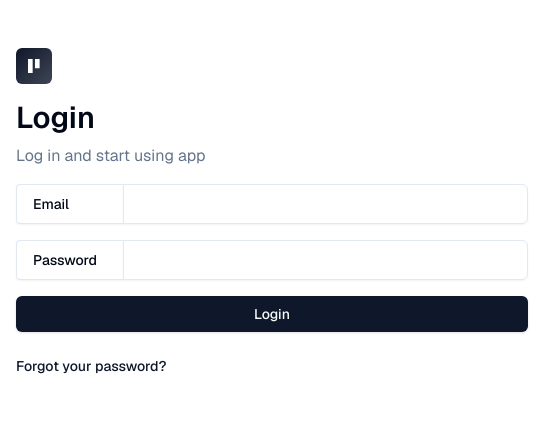
Test: Form validation › Password must be 6 characters at minimum
Type "example@example.com" into the field labelled "Email" at (326, 204), box 123,184 -> 528,224
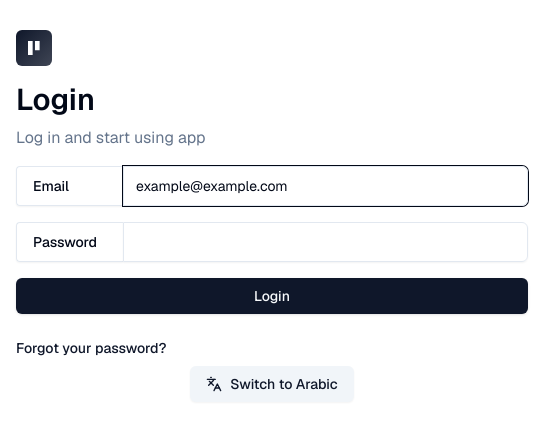
Type "one" into the password field labelled "Password" at (326, 242), box 123,222 -> 528,262
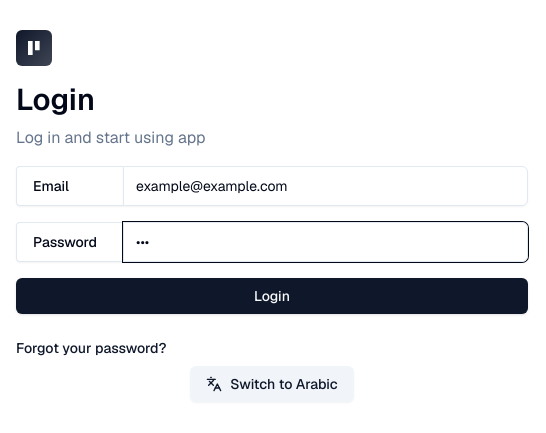
Click the submit button at (272, 296), box 16,278 -> 528,314
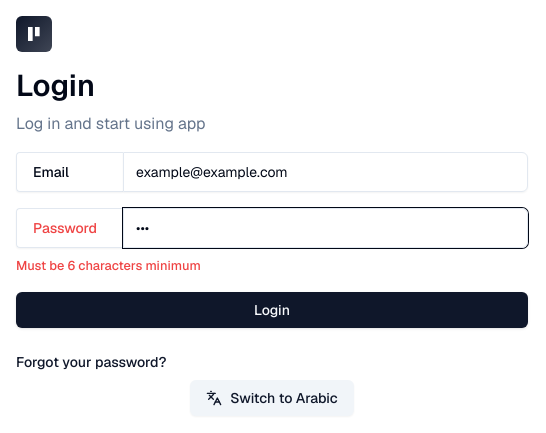
Check: the text "Must be 6 characters minimum" is shown, box 16,257 -> 201,274
